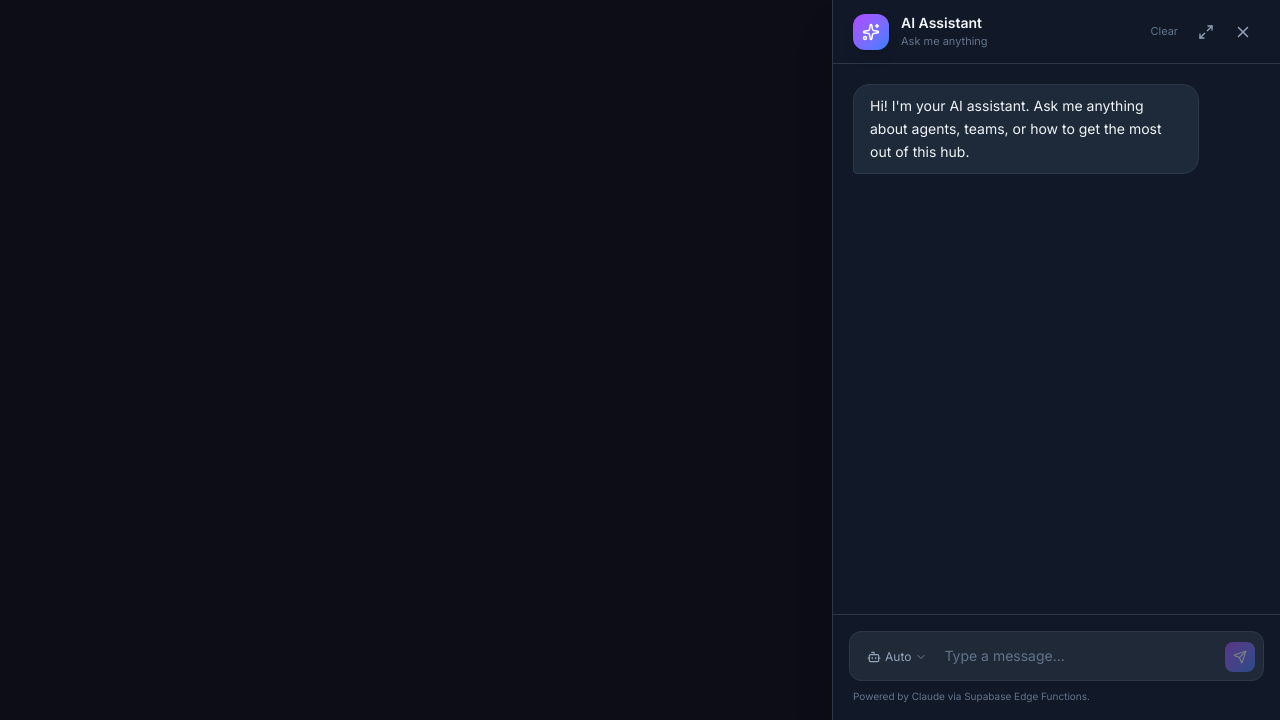
Scenario: AiAssistant › clears conversation back to just the welcome message
Type "First message" into the field with placeholder "Type a message...". click: (1081,656)
box: x1=944 y1=640 x2=1217 y2=672
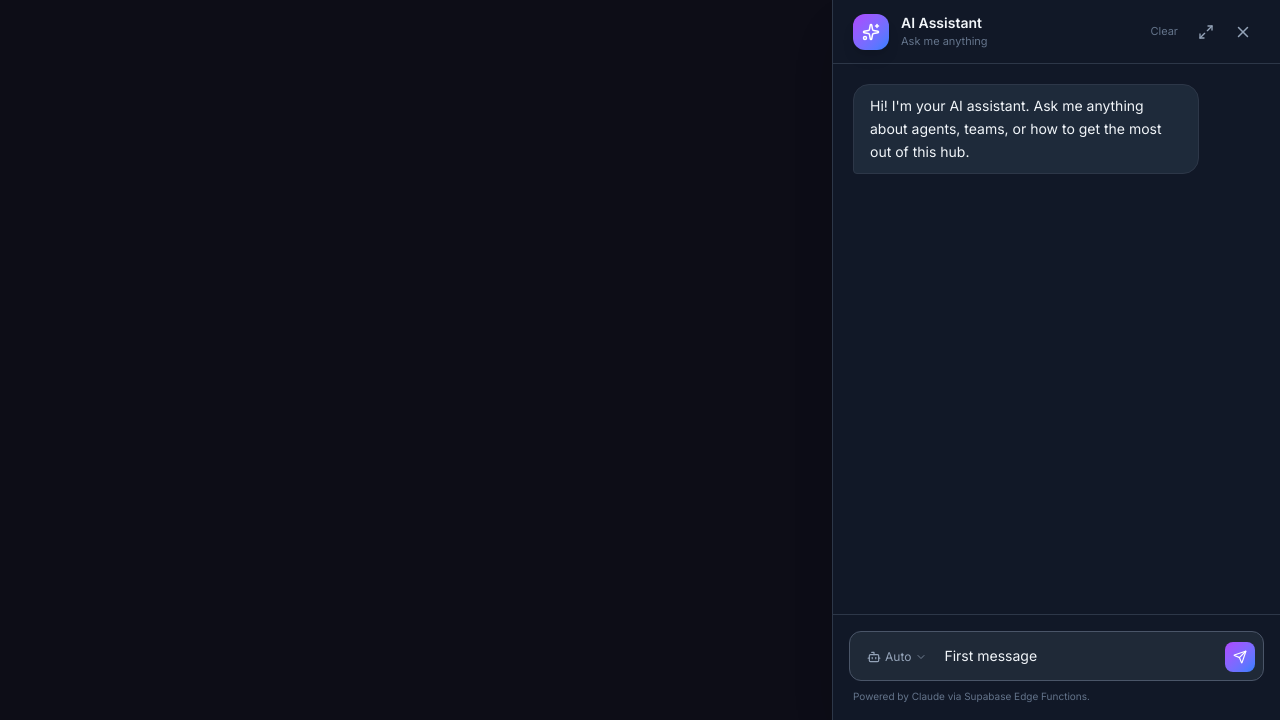
Click the button named "Send message". click: (1240,657)
box: x1=1225 y1=642 x2=1255 y2=672
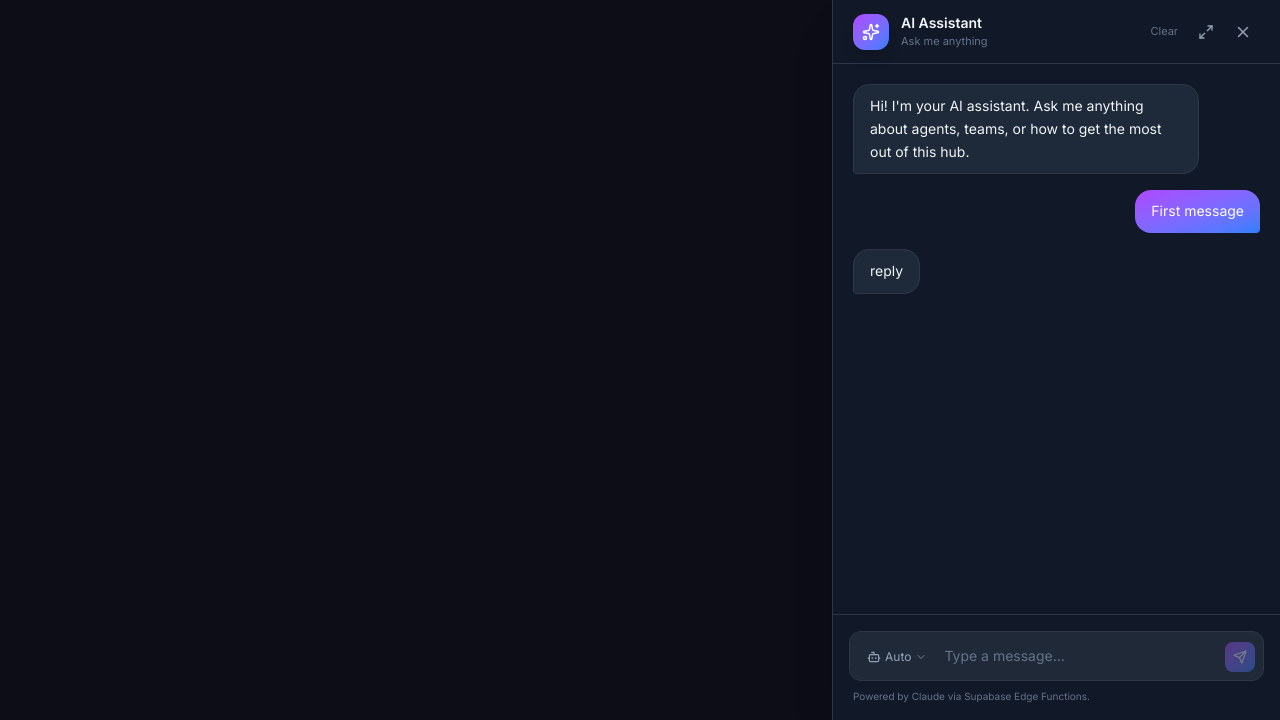
Expected: the text "First message" is shown, x1=1135 y1=190 x2=1260 y2=233
Click the button with aria-label "Clear conversation". click: (1164,32)
box: x1=1142 y1=19 x2=1186 y2=44
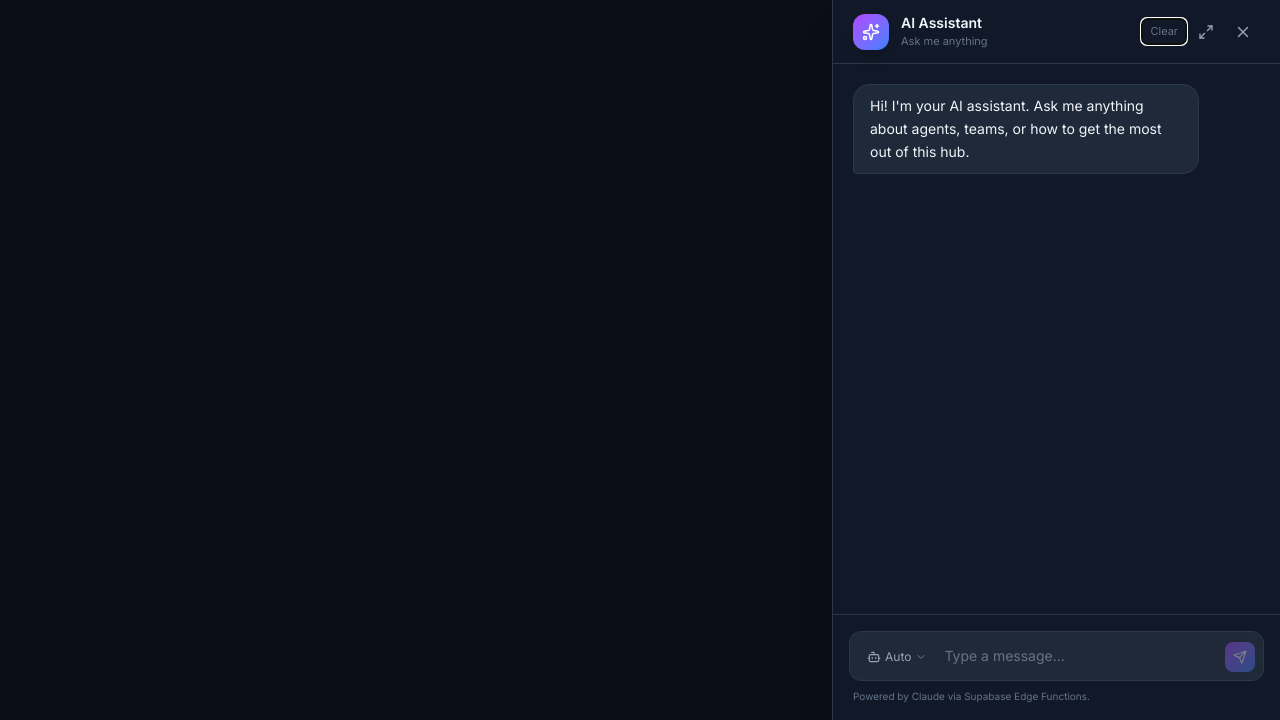
Expected: the text "Hi! I'm your AI assistant" is shown, x1=870 y1=97 x2=1162 y2=160
Expected: the text "First message" is gone
